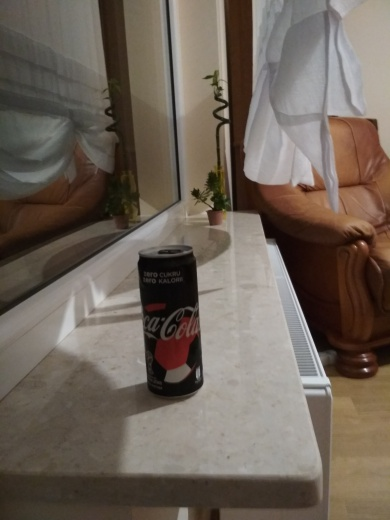colazero: (131, 239, 210, 405)
